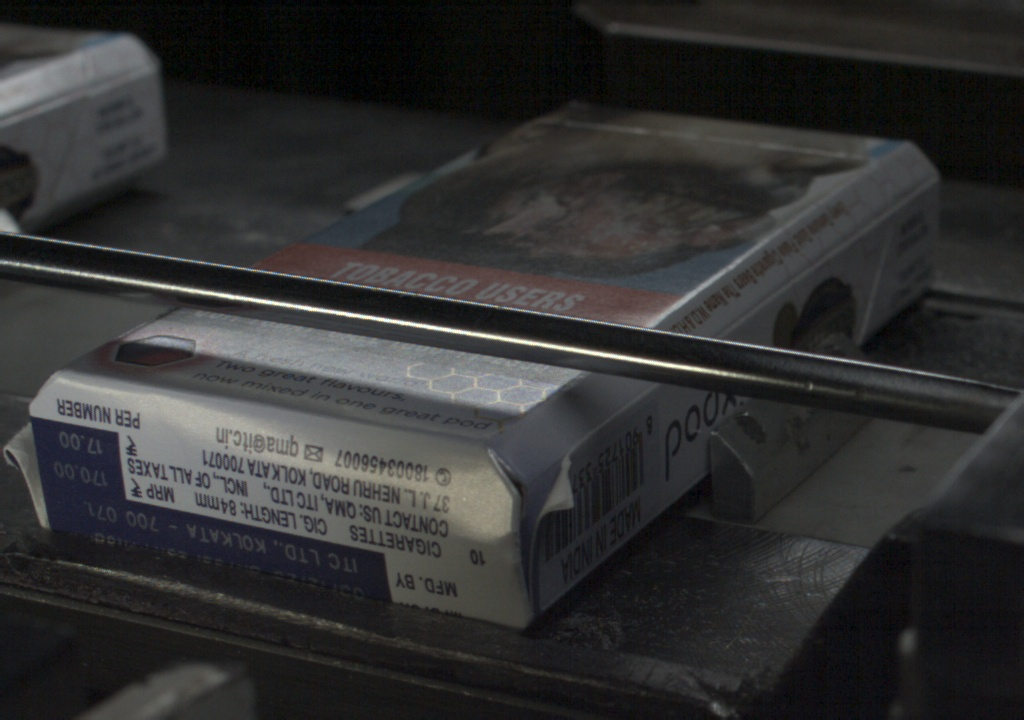g_label: (46, 490, 408, 604)
g_lmiter: (722, 263, 811, 333), (811, 204, 891, 263)
g_miter: (895, 175, 941, 205)
ng_lmiter: (3, 372, 49, 530), (522, 447, 582, 530)
price: (36, 420, 133, 489)
